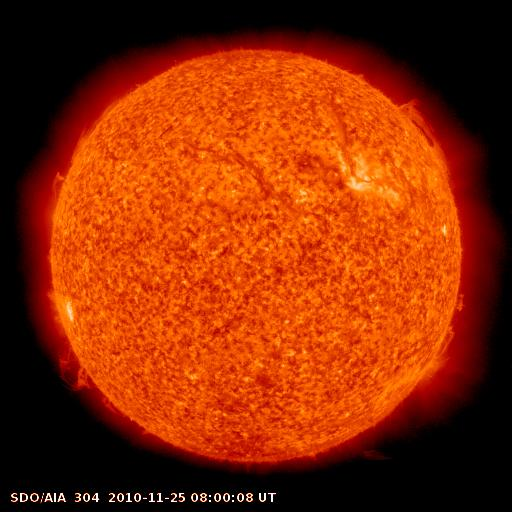prominence: (385, 90, 466, 187), (417, 287, 477, 384), (50, 332, 100, 396), (40, 162, 80, 205)
